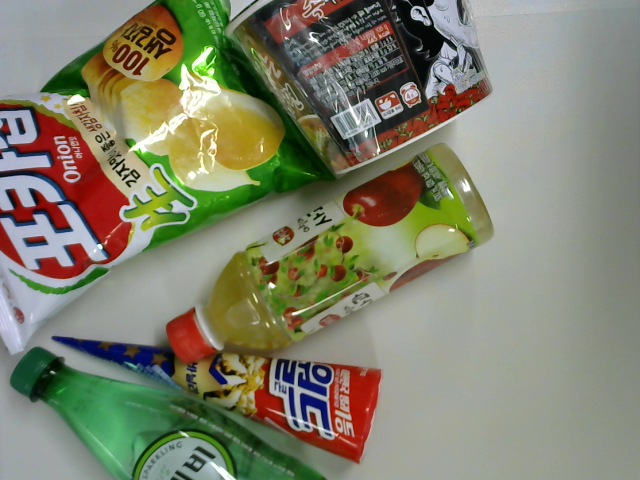HeJangsock: (212, 1, 496, 184)
Morning_Apple_500ml: (161, 141, 500, 375)
Pocachip_Onion: (1, 2, 357, 362)
Treviraim_500ml: (8, 345, 334, 480)
World_Cone_Banila: (45, 331, 391, 468)
